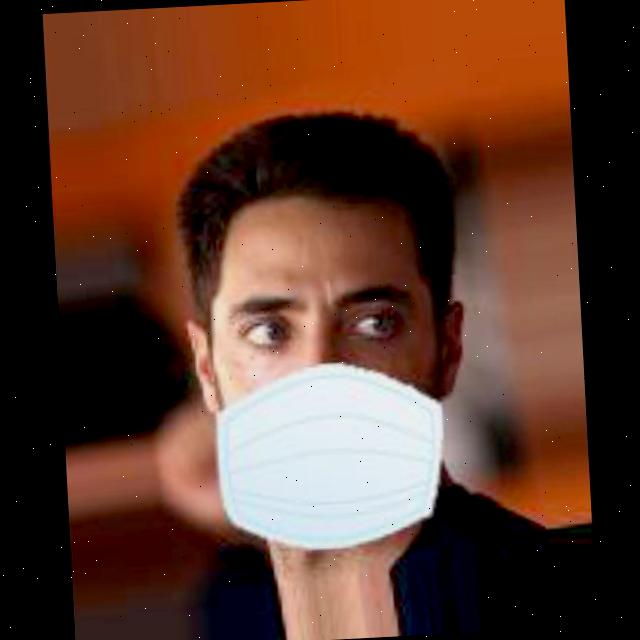suspicion: (158, 162, 484, 526)
